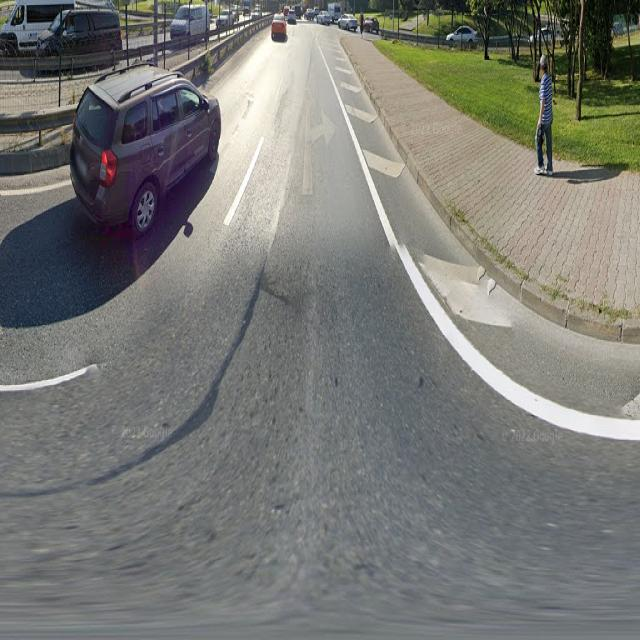Pedestrian crosswalk: (315, 38, 522, 409)
Road: (102, 39, 582, 587), (216, 40, 283, 122)
